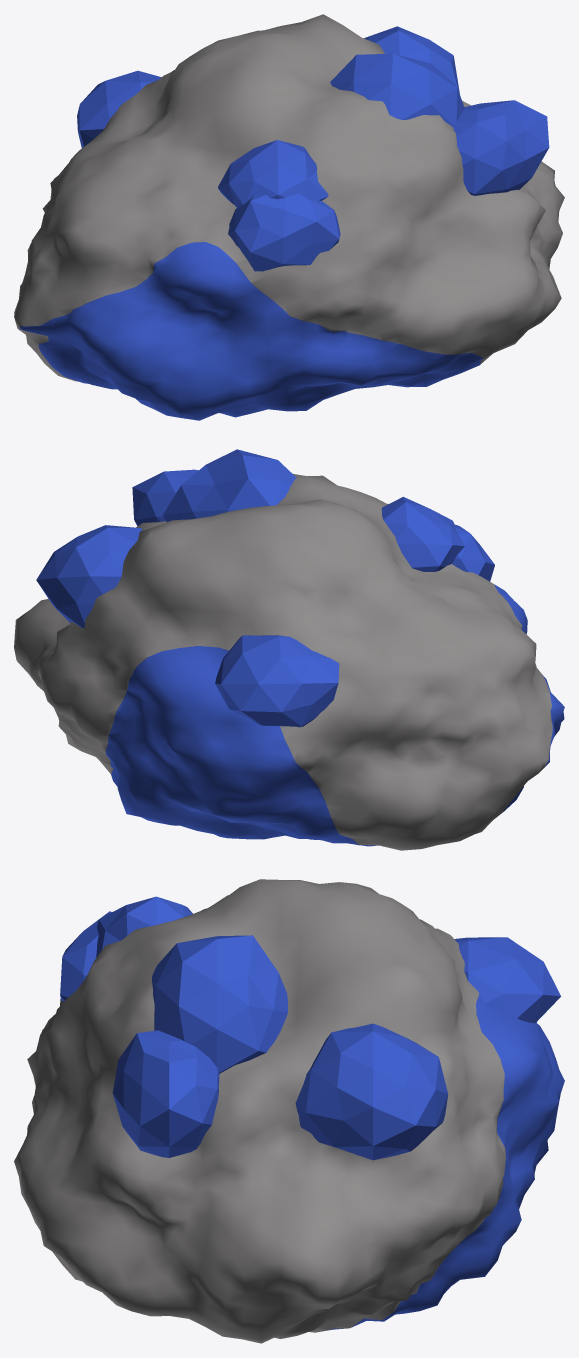
File: lapis_surface.glb
3 views of the same model, one above another, from view 1: azimuth 30°, elevation 25°; view 2: azimuth 150°, elevation 25°; view 3: azimuth 270°, elevation 25° (orthographic). The views are drawn at different scales.
Visible parts, largest first — view 1: lapis_surface; view 2: lapis_surface; view 3: lapis_surface.
Part boxes in pixels (box(x1,y1,x2,y2)): lapis_surface: box(14, 14, 564, 420); lapis_surface: box(14, 449, 564, 850); lapis_surface: box(14, 879, 564, 1343).
Size of the model in its own units: 1.16 by 0.6604 by 0.8736.
